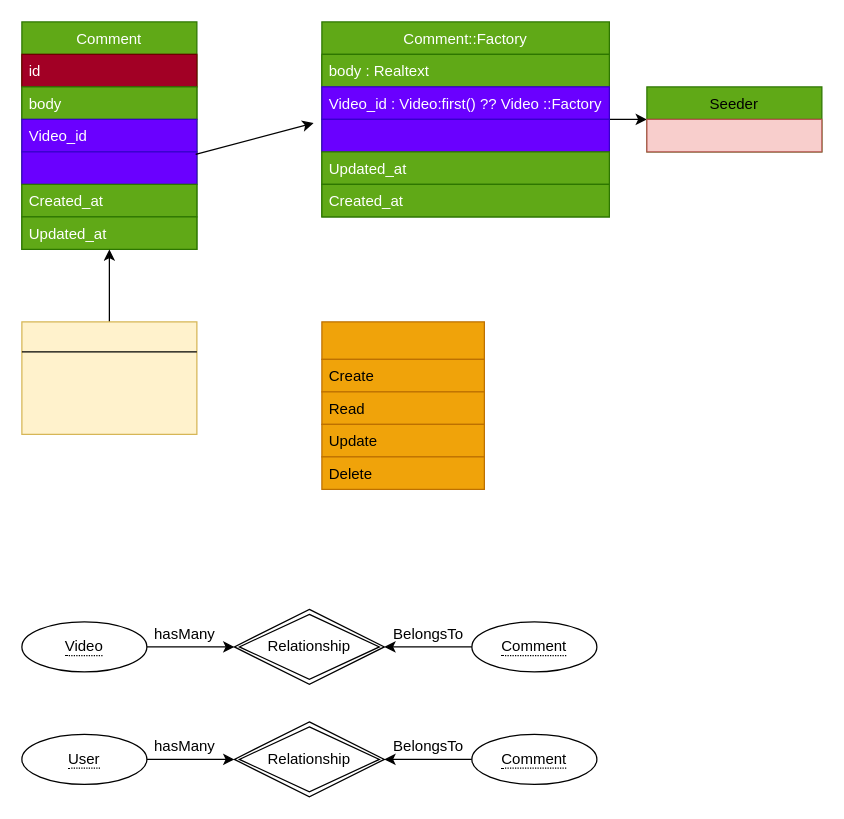
The diagram is 844 pixels wide and 819 high, and some of its shapes have lost their labels. Here are the shapes that lost their labels. From the top down, the centre of each, then its label:
At point 465,135: "user_id User::fist() ?? User::Factory()".
At point 734,135: "Call Commtn Factory".
At point 109,167: "user_id".
At point 402,340: "Comment Controller".
At point 109,377: "Comment Model".
